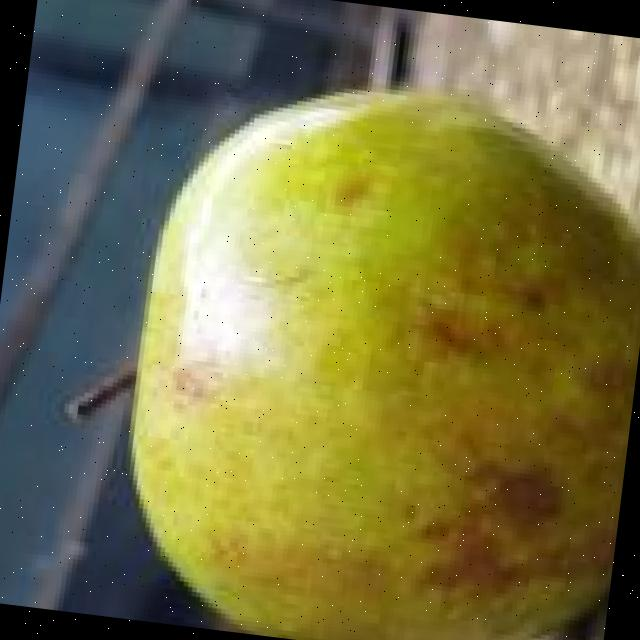Good_Apple 10-21 days: (136, 90, 640, 640)
